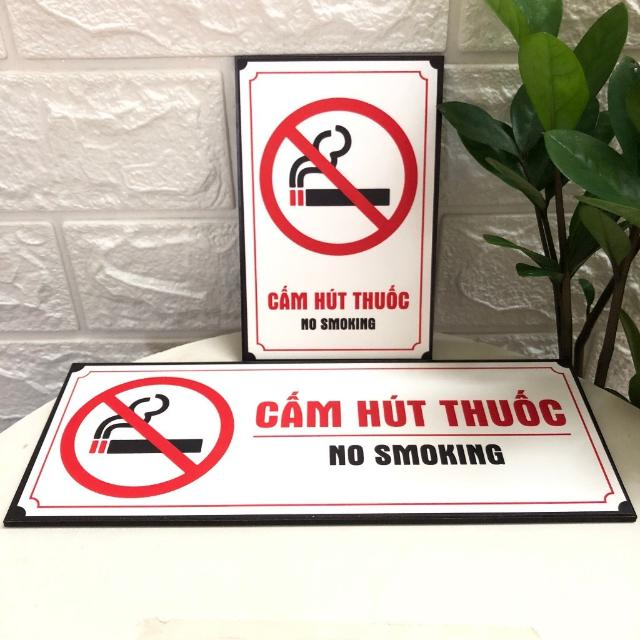cam hut thuoc: (5, 361, 635, 526), (236, 54, 442, 359)
